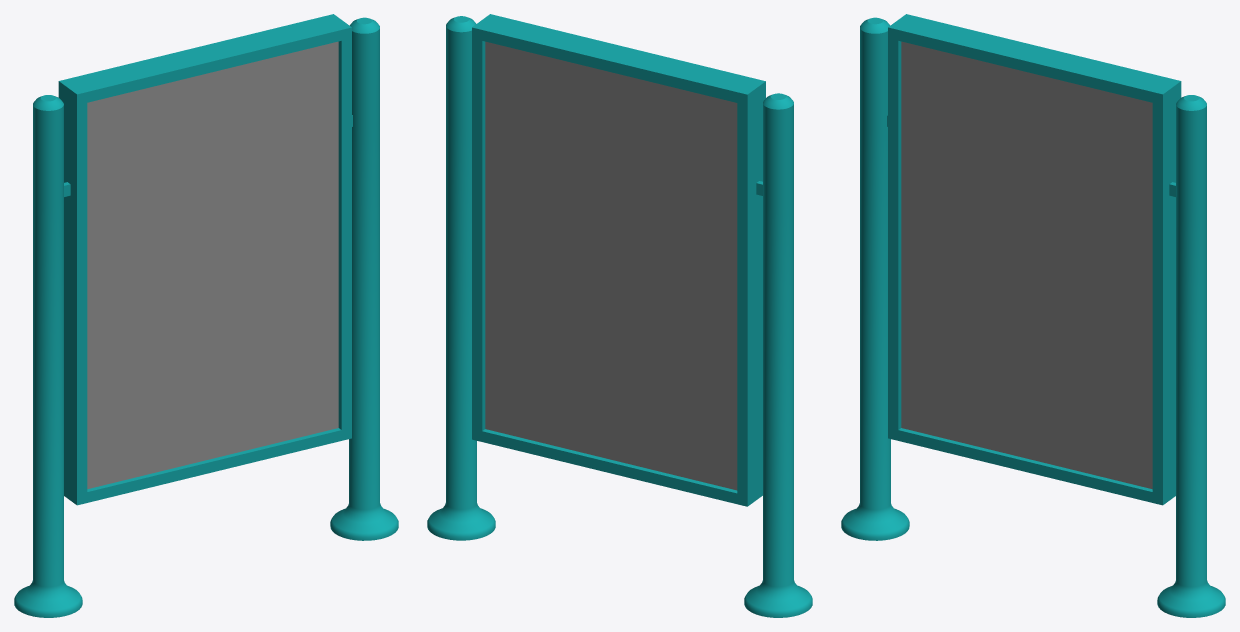
Rendered from sign.FBX.
The picture shows the model from 3 angles, left to right: view 1: azimuth 30°, elevation 25°; view 2: azimuth 150°, elevation 25°; view 3: azimuth 330°, elevation 25°; orthographic projection.
Visible parts, largest first — view 1: Object001, Cylinder001; view 2: Object001, Cylinder001; view 3: Object001, Cylinder001.
Part boxes in pixels (x1,y1,x2,y2): Object001: (87, 41, 338, 489); Cylinder001: (14, 14, 398, 617); Object001: (485, 41, 737, 490); Cylinder001: (427, 14, 812, 617); Object001: (901, 41, 1152, 489); Cylinder001: (841, 14, 1225, 617).
Bounding box in the file's own units: 87.09 × 113 × 13.76.
